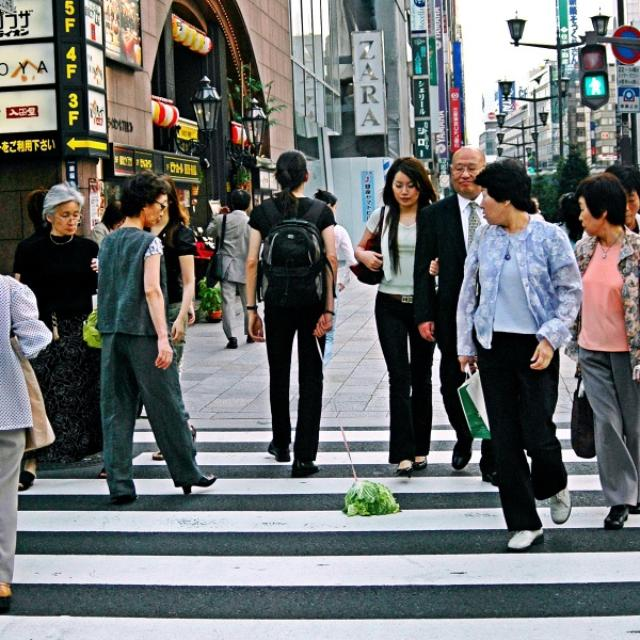head: (480, 164, 532, 226), (578, 175, 628, 238), (119, 172, 173, 228), (450, 147, 490, 197), (46, 186, 84, 237), (389, 158, 426, 208), (276, 150, 310, 194), (140, 176, 174, 218), (0, 235, 20, 273), (314, 192, 340, 220), (105, 202, 128, 232), (232, 191, 252, 213)
person: (458, 161, 584, 551), (98, 170, 218, 502), (11, 186, 127, 494), (416, 148, 516, 472), (245, 147, 337, 476), (357, 157, 441, 475), (121, 175, 202, 463), (0, 242, 58, 615), (298, 185, 358, 358), (202, 190, 262, 352), (88, 200, 132, 366)
